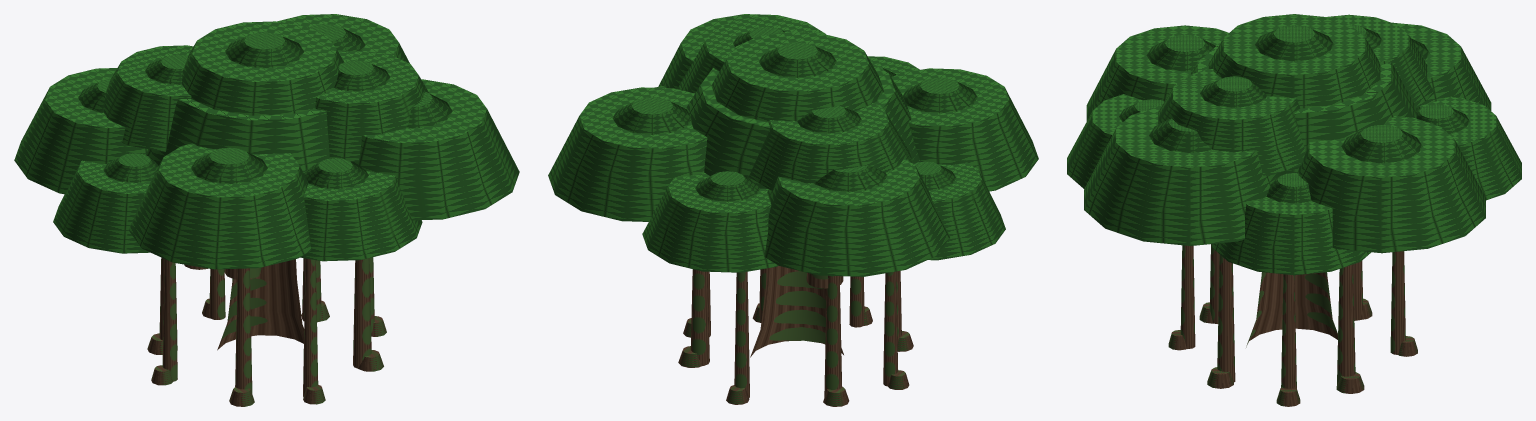
File: banyan_tree.glb
3 renders of one model, left to right at view 1: azimuth 30°, elevation 25°; view 2: azimuth 150°, elevation 25°; view 3: azimuth 270°, elevation 25°, orthographic.
Parts seen in each view (by area): view 1: Node_BanyanTree; view 2: Node_BanyanTree; view 3: Node_BanyanTree.
Boxes of the visible parts, x1=… form: Node_BanyanTree: x1=14, y1=14, x2=519, y2=406; Node_BanyanTree: x1=548, y1=14, x2=1038, y2=406; Node_BanyanTree: x1=1067, y1=14, x2=1521, y2=406.
Bounding box in the file's own units: 17.1 × 12.74 × 16.64.
Materials: 2 (2 with a texture image).
